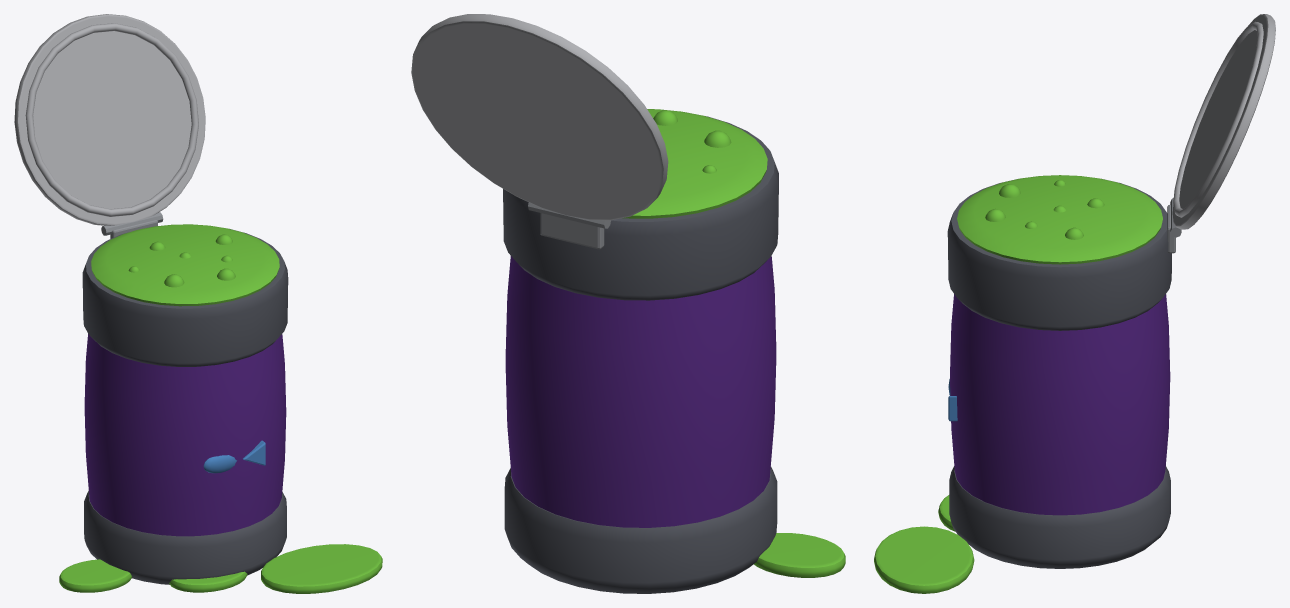
The model's file is gen_toxic_can.mobile-mid.glb.
3 renders of one model, left to right at view 1: azimuth 30°, elevation 25°; view 2: azimuth 150°, elevation 25°; view 3: azimuth 270°, elevation 25°, orthographic. The views are drawn at different scales.
Parts seen in each view (by area): view 1: gen_toxic_can; view 2: gen_toxic_can; view 3: gen_toxic_can.
Boxes of the visible parts, x1,y1,x2,y2 form: gen_toxic_can: (14, 14, 382, 593); gen_toxic_can: (411, 14, 845, 593); gen_toxic_can: (874, 14, 1275, 593).
Bounding box in the file's own units: 0.47 × 0.772 × 0.5616.
Materials: 1 (1 with a texture image).
